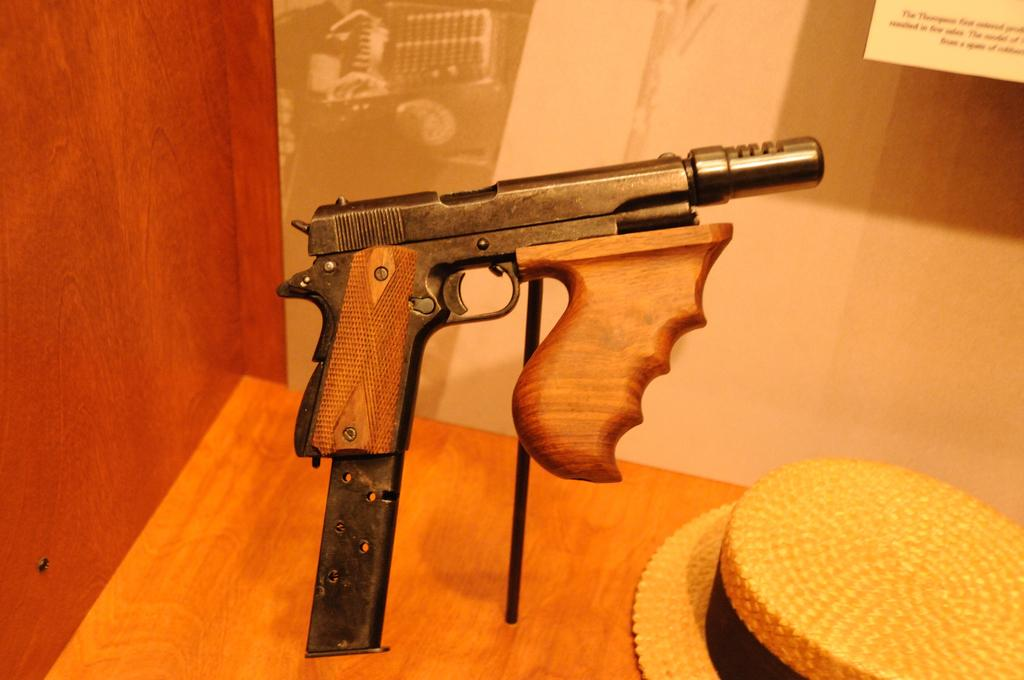Handgun: (274, 128, 826, 487)
